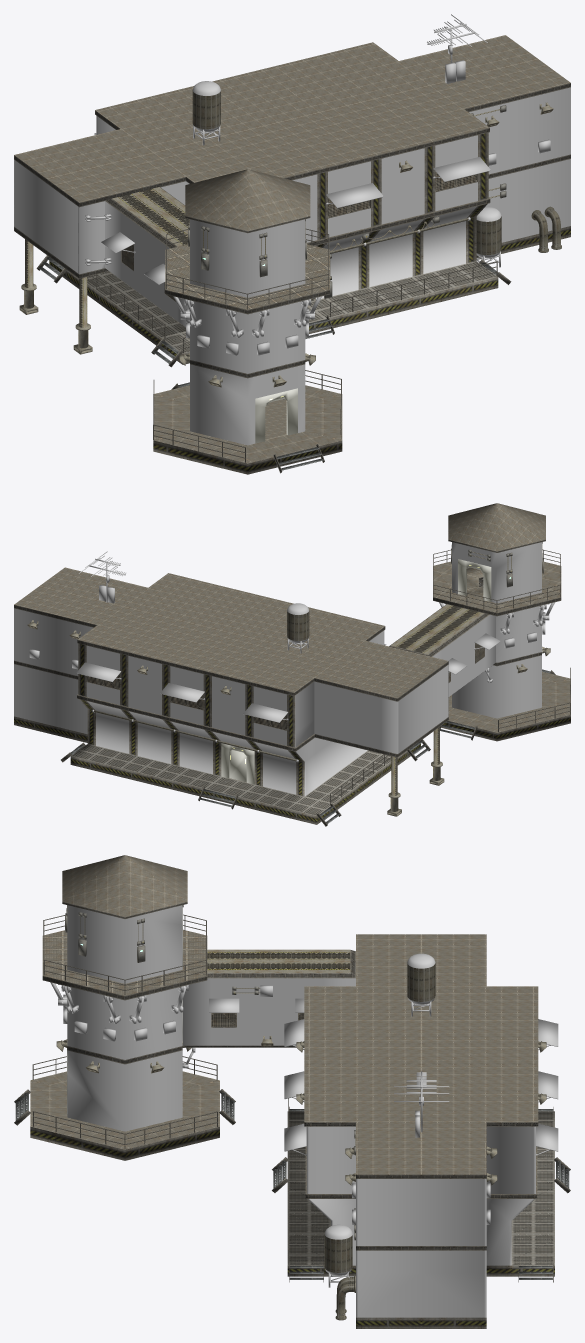
Rendered from tower_building.fbx.
3 renders of one model, top to bottom at view 1: azimuth 30°, elevation 25°; view 2: azimuth 150°, elevation 25°; view 3: azimuth 270°, elevation 25°, orthographic. The views are drawn at different scales.
Visible parts, largest first — view 1: Mesh; view 2: Mesh; view 3: Mesh.
Part boxes in pixels (bbox=[...]): Mesh: bbox=[14, 14, 570, 474]; Mesh: bbox=[14, 503, 570, 826]; Mesh: bbox=[14, 855, 570, 1328].
Size of the model in its own units: 2496 by 1162 by 2256.
